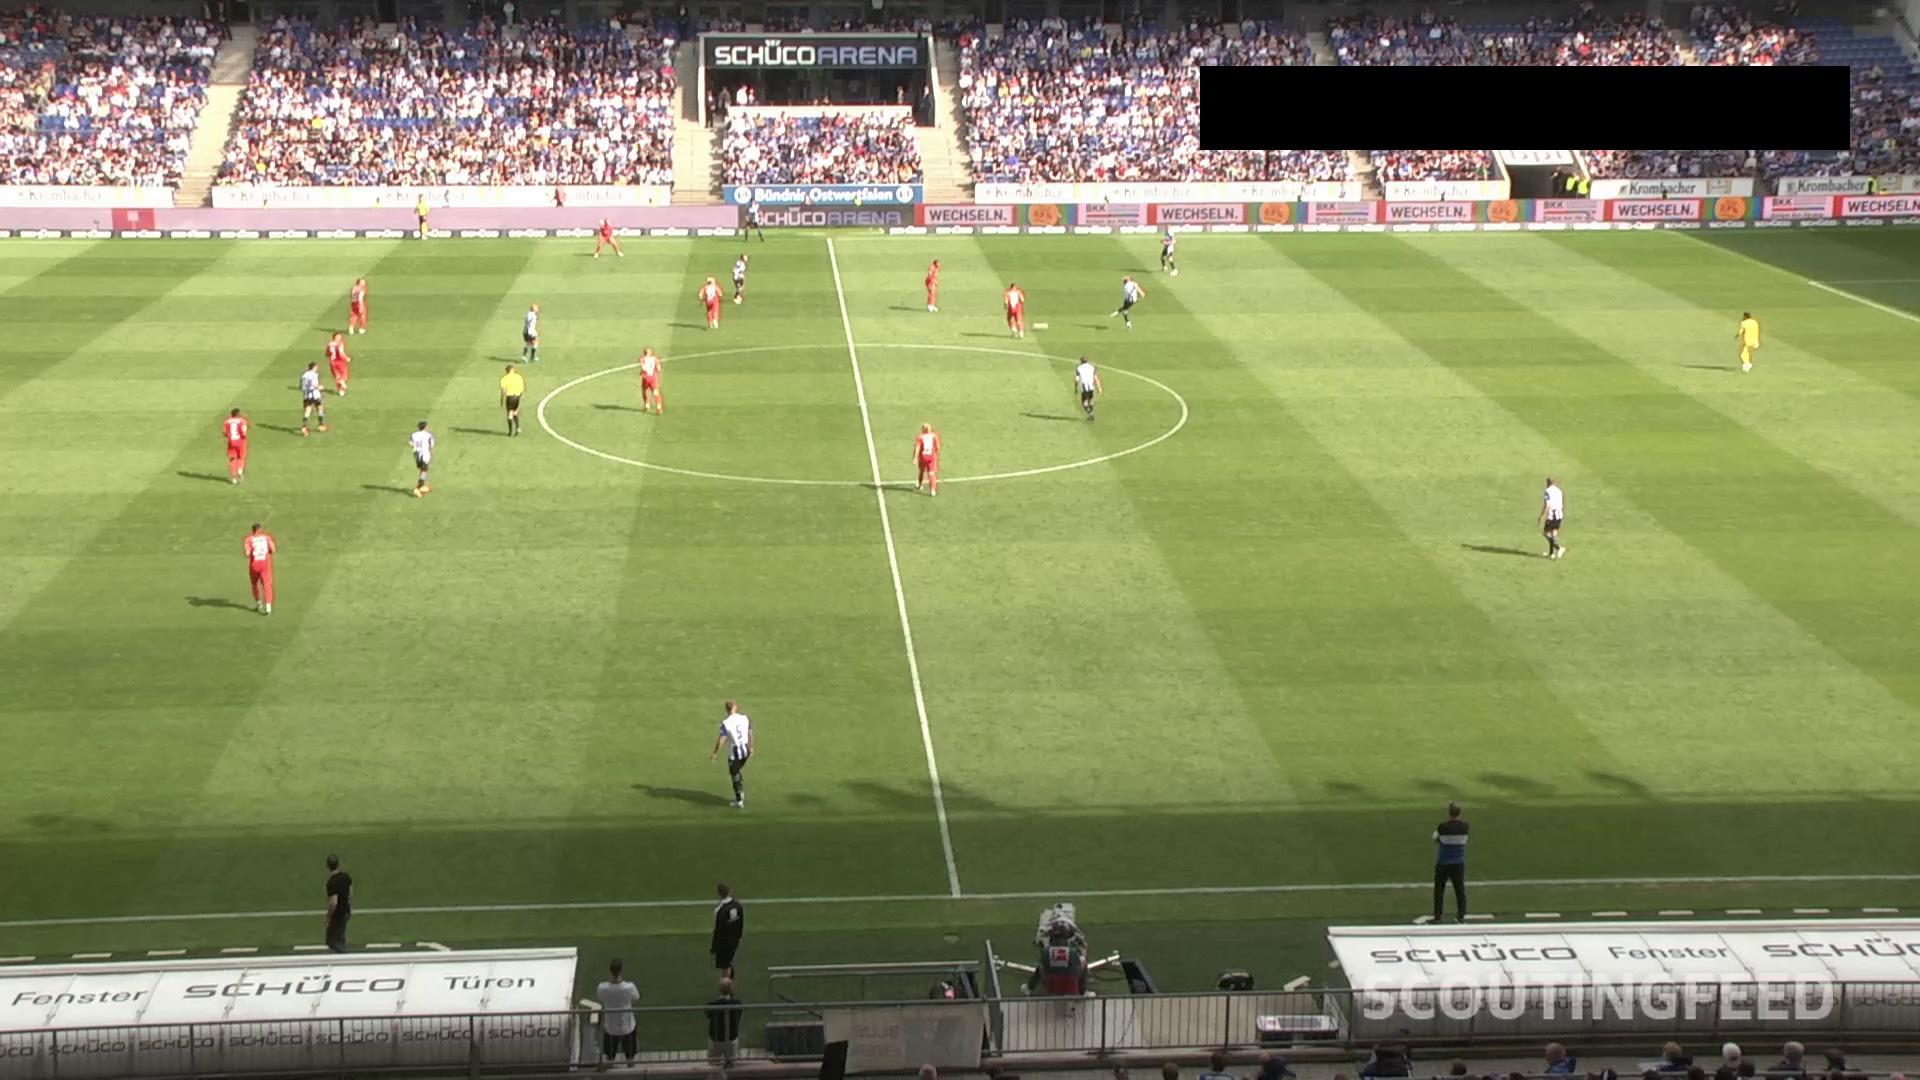Location-of-ball: (1026, 316, 1056, 342)
